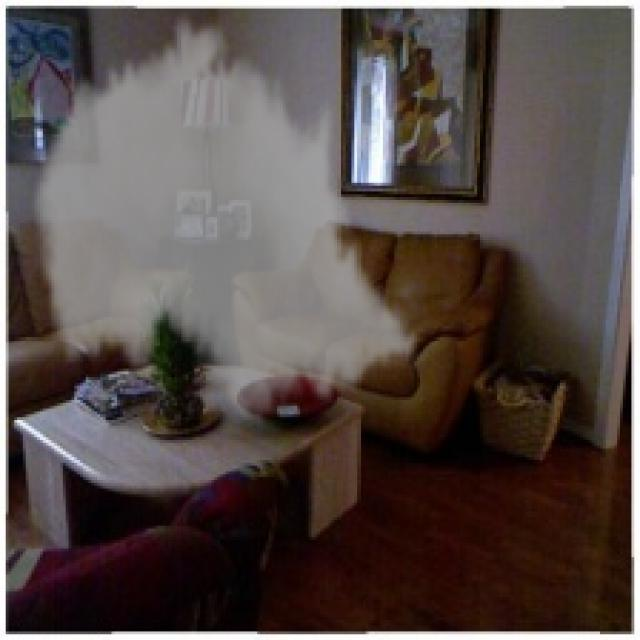Smoke: (28, 9, 420, 432)
